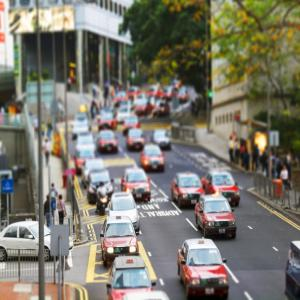Vehicle-registration-plate: (207, 290, 215, 294), (220, 229, 226, 234), (193, 200, 198, 205), (138, 195, 143, 198)
